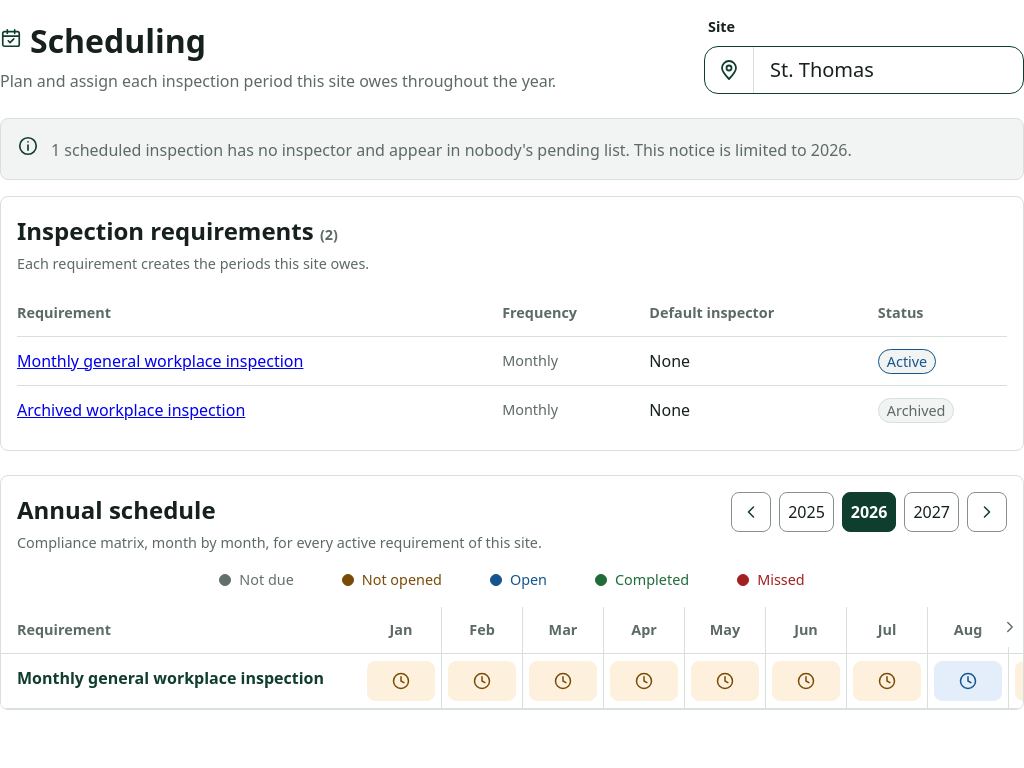
Test case: requirements y permisos › un miembro del JHSC lee requirements y periodos sin controles de escritura
Expected: the column heading "Default inspector" is shown, [641,290,870,336]
Expected: the number of cells "None" is 2, [641,336,870,385]; [641,385,870,434]
Step 1. Click the button named "August" → coordinates (968, 681), box [934,661,1002,701]
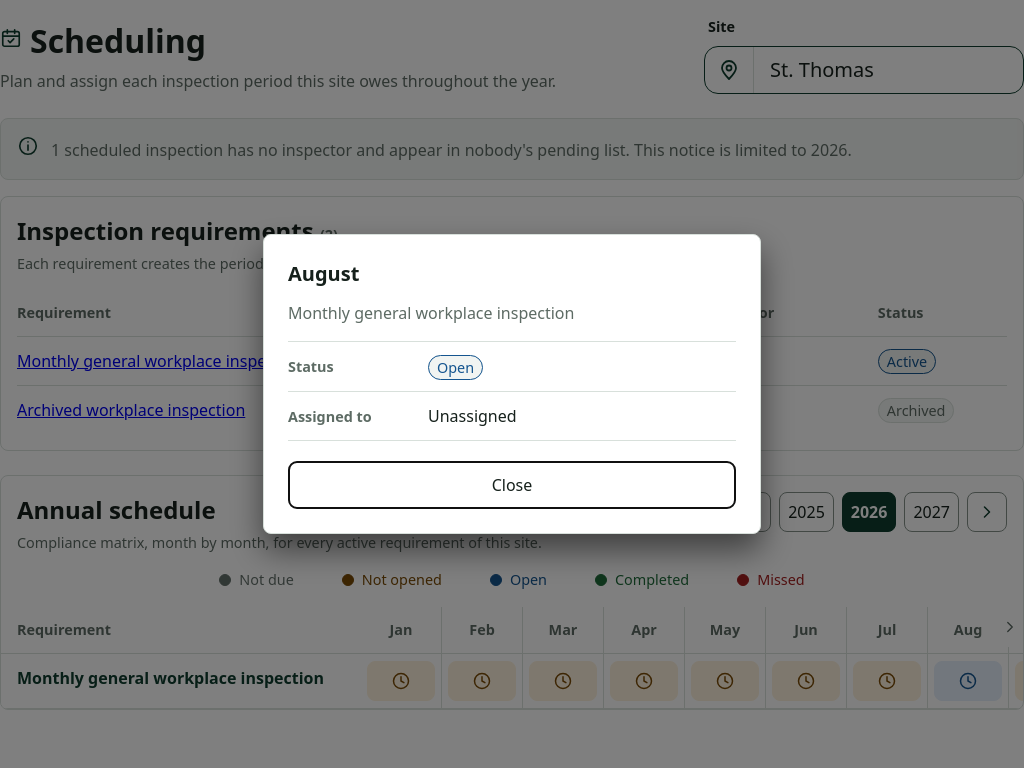
Now the dialog is shown, box [263,234,761,534]
